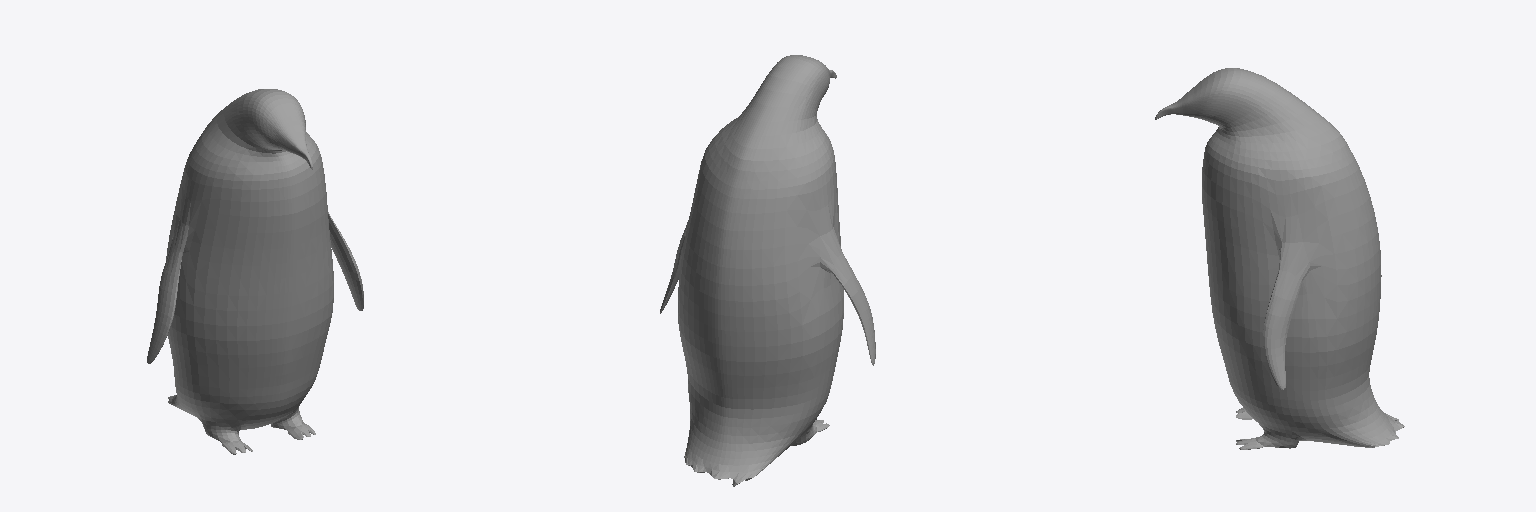
The model's file is penguin.obj.
3 renders of one model, left to right at view 1: azimuth 30°, elevation 25°; view 2: azimuth 150°, elevation 25°; view 3: azimuth 270°, elevation 25°, orthographic.
Parts seen in each view (by area): view 1: Penguin_Cylinder; view 2: Penguin_Cylinder; view 3: Penguin_Cylinder.
Boxes of the visible parts, <box> form: Penguin_Cylinder: <box>147,89,363,454</box>; Penguin_Cylinder: <box>660,55,875,486</box>; Penguin_Cylinder: <box>1155,68,1404,449</box>.
Size of the model in its own units: 0.7502 by 1.22 by 0.7581.